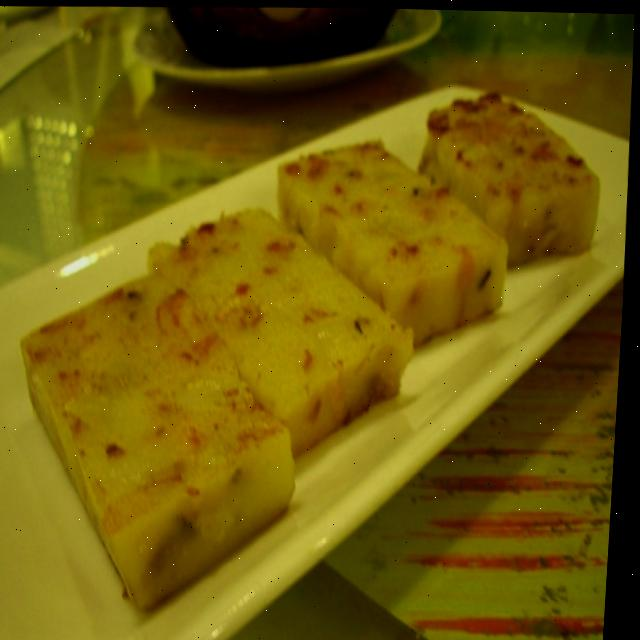蛋糕甜品: (2, 40, 616, 614)
